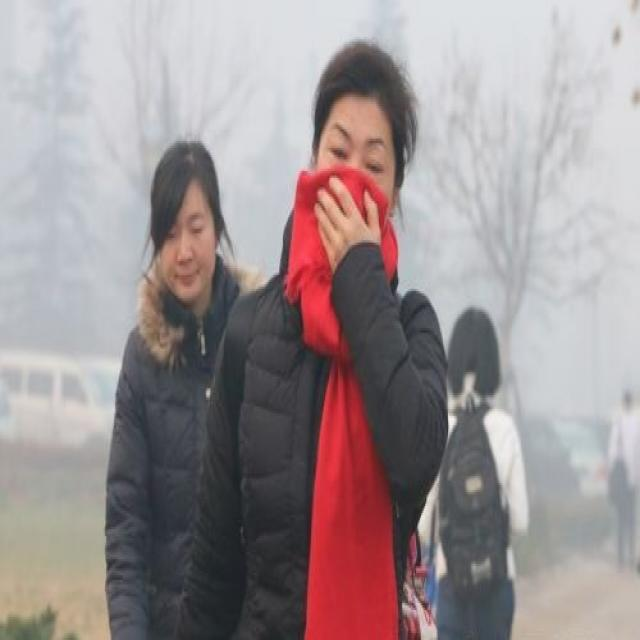mask: (313, 98, 391, 258)
nomask: (159, 187, 212, 303)
